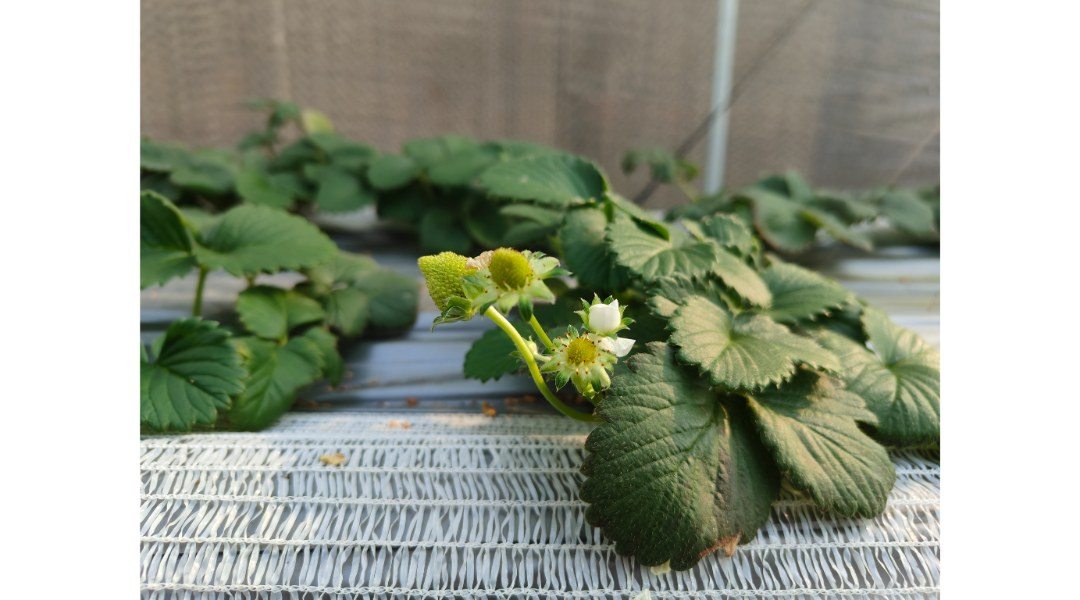berry: (398, 251, 494, 323), (477, 225, 556, 312), (543, 332, 627, 412), (576, 289, 656, 350)
